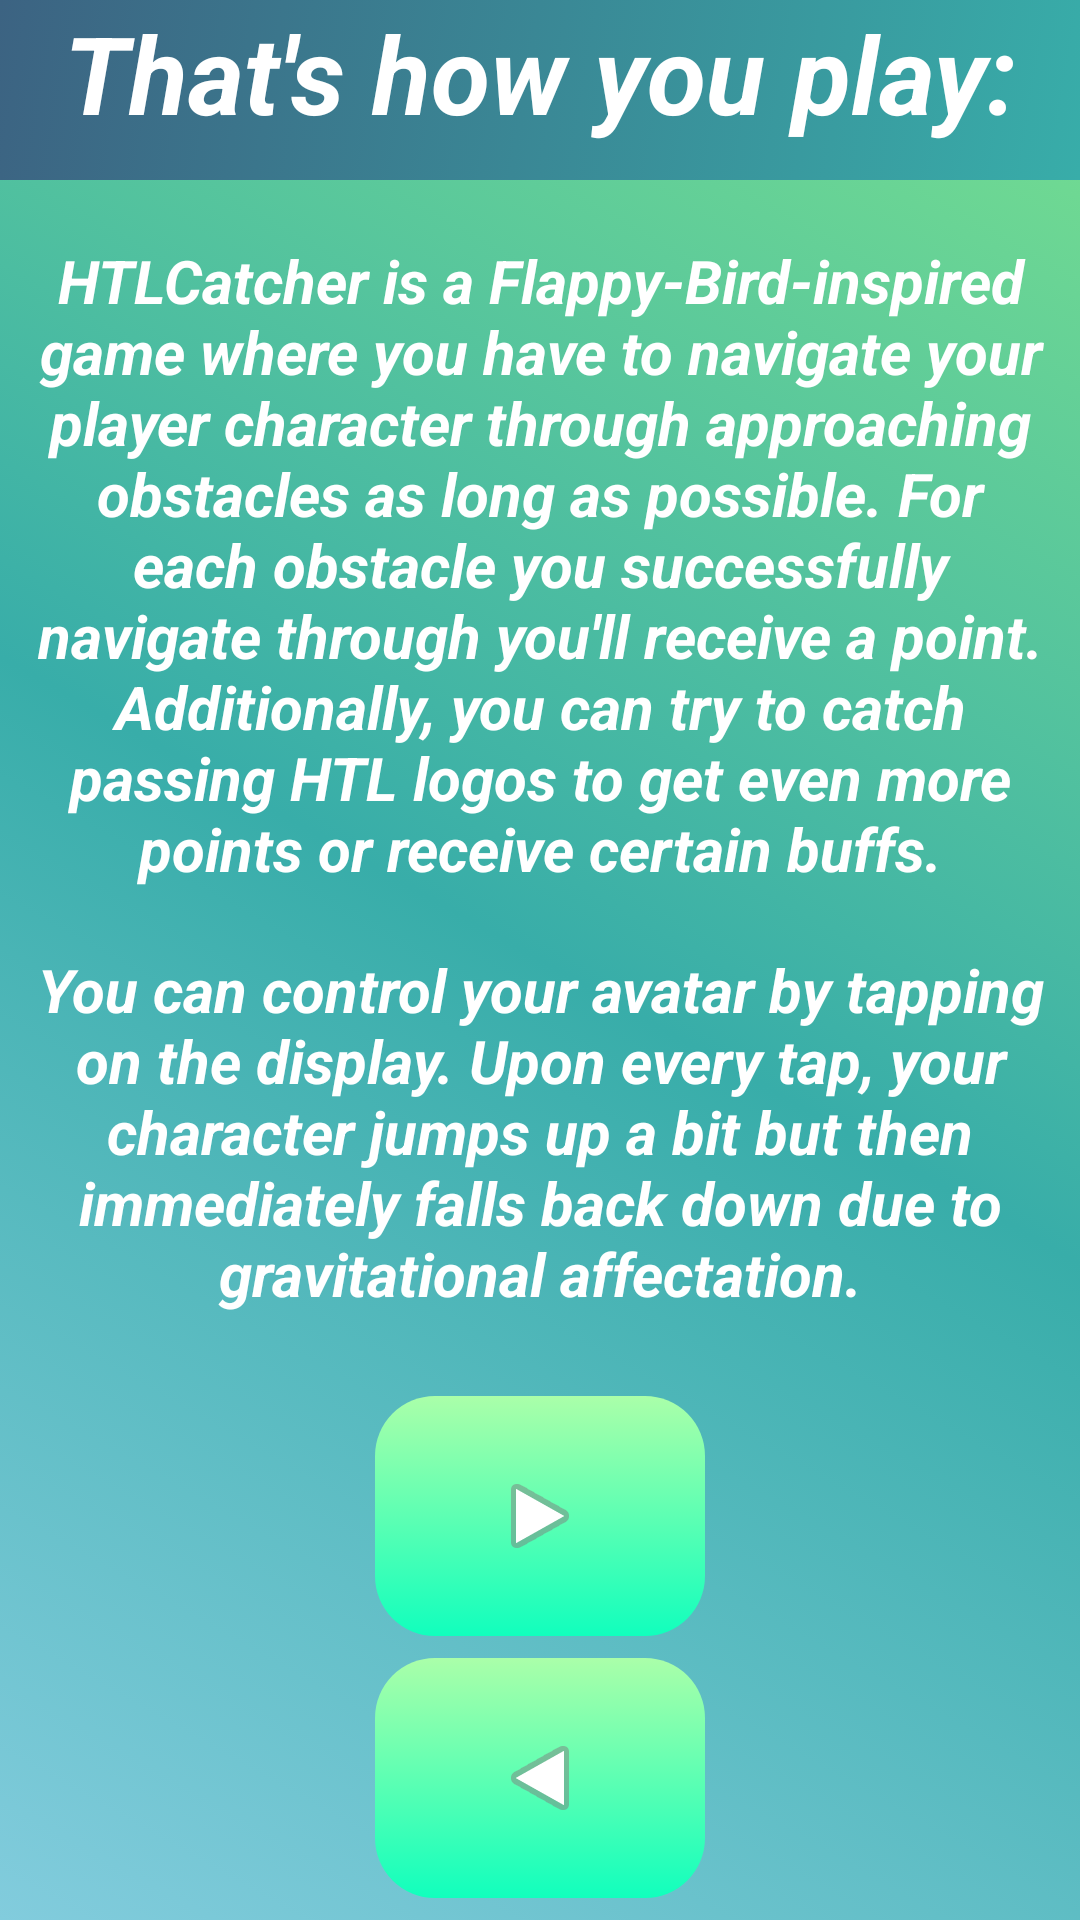

Locate icon controls on the screen. Image size 1080 × 1920, boxes as [x1, y1, x2, y2].
turned play: [375, 1658, 705, 1898]
